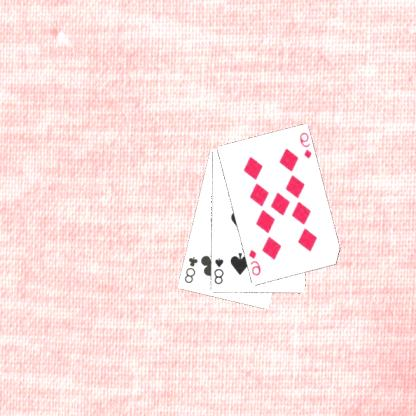8C: (183, 254, 201, 285)
8S: (213, 255, 227, 286)
9D: (247, 247, 264, 277), (298, 130, 315, 160)
